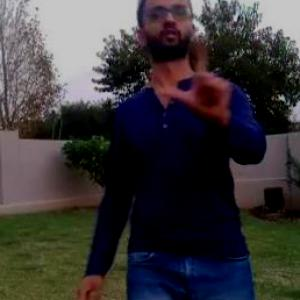land_hand: (160, 37, 240, 128)
